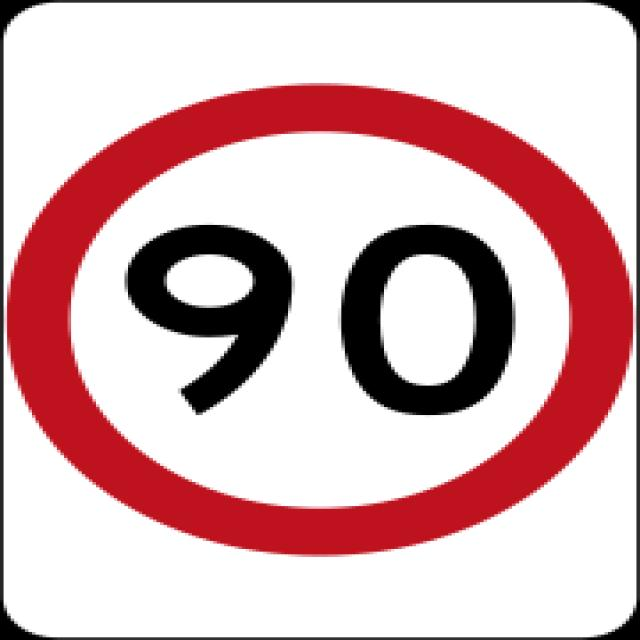Speed Limit -90-: (114, 208, 526, 430)
